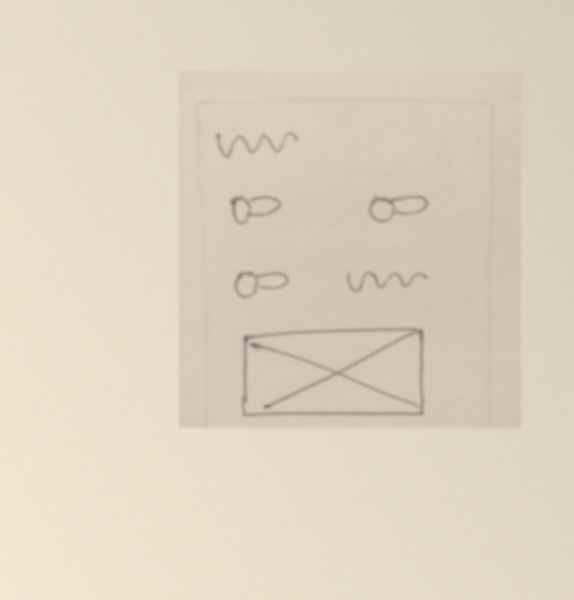image: (233, 321, 431, 421)
switch: (362, 183, 434, 232), (226, 263, 294, 303), (223, 191, 285, 227)
text: (339, 261, 434, 301), (210, 125, 302, 159)
